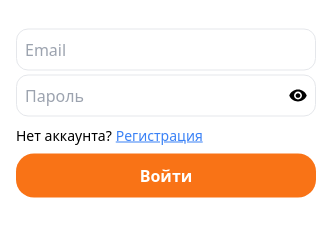
Login › Должен проверить что если пароль  меньше 6 символов то будет предуреждение Минимум 6 символов
The width and height of the screenshot is (333, 227).
Type "12345" into the password field with placeholder "Пароль" at (166, 96), box [16,74,316,116]
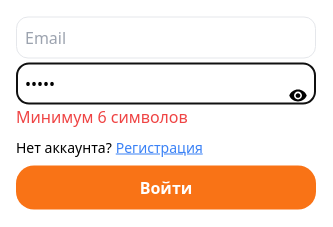
Expected: the text "Минимум 6 символов" is shown, [16,106,188,128]
